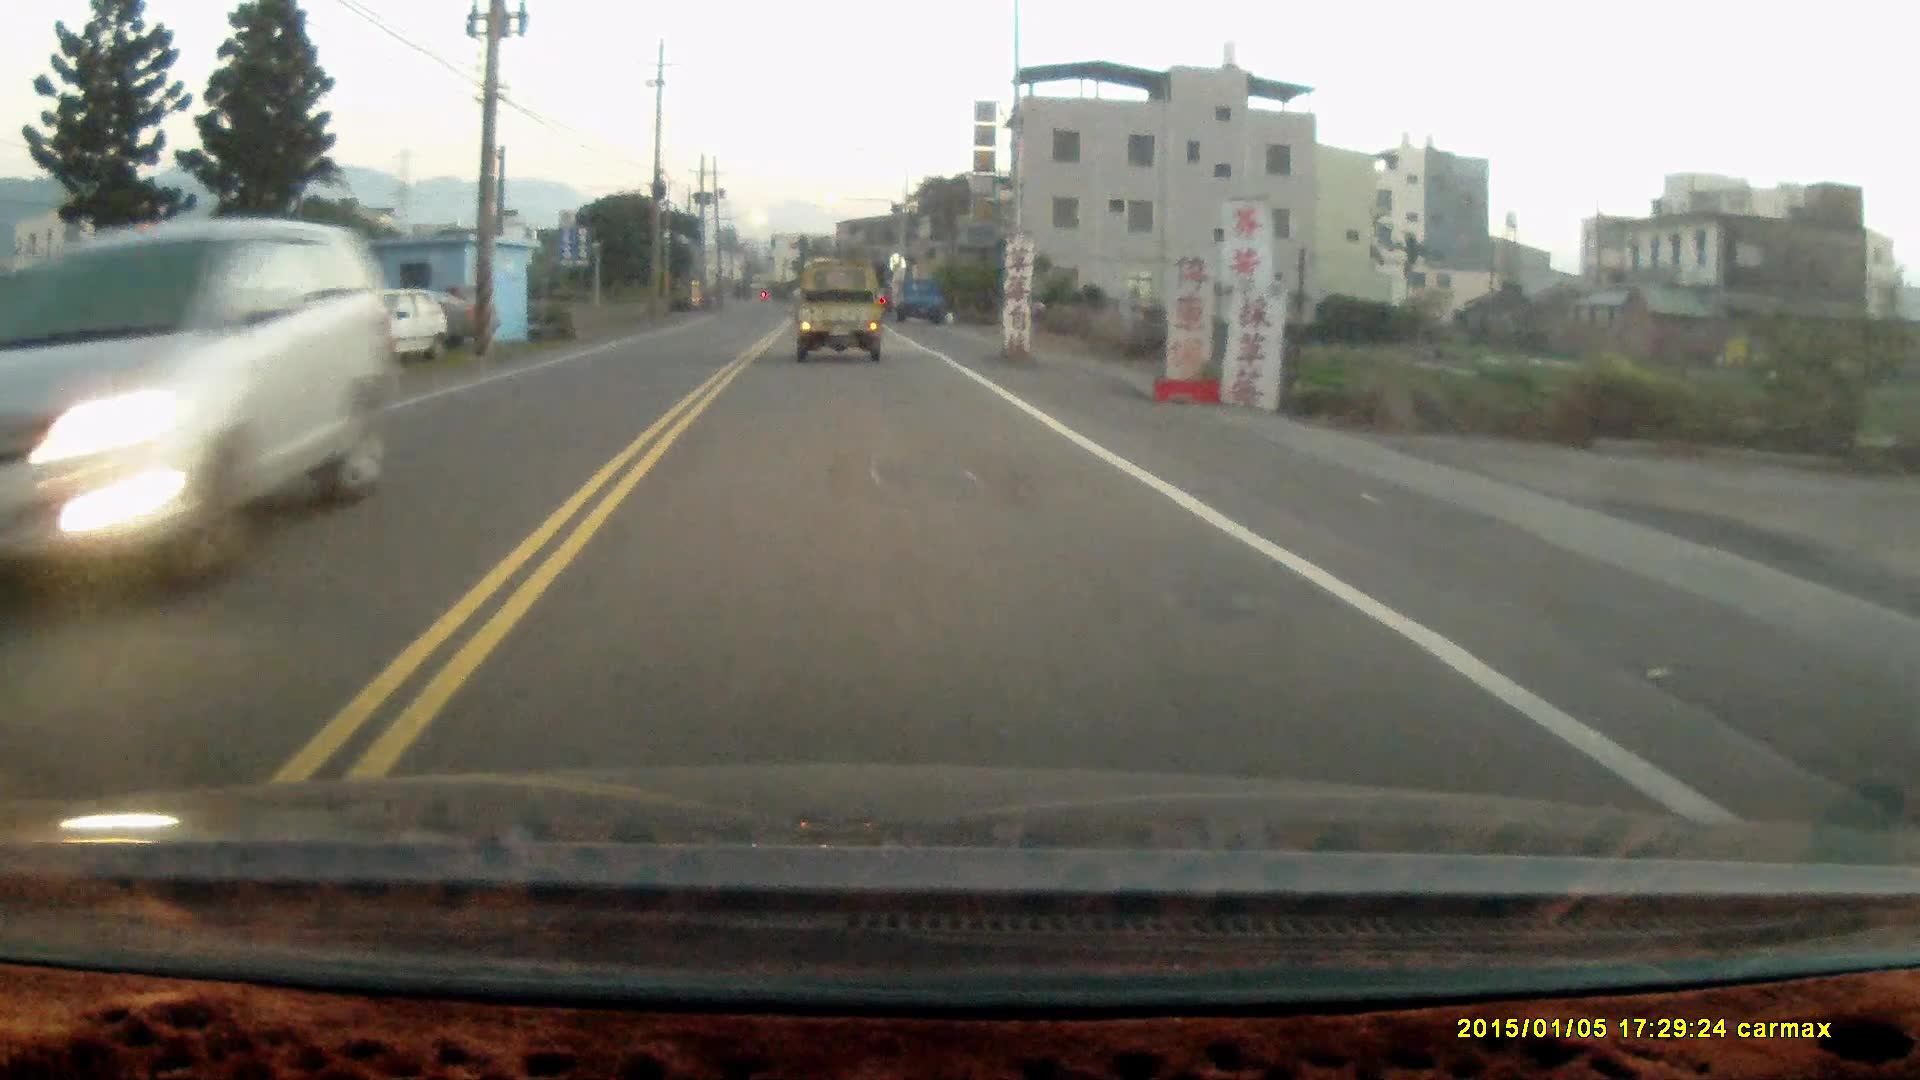vehicle: (1, 218, 367, 593), (794, 272, 885, 371), (897, 280, 949, 330)
